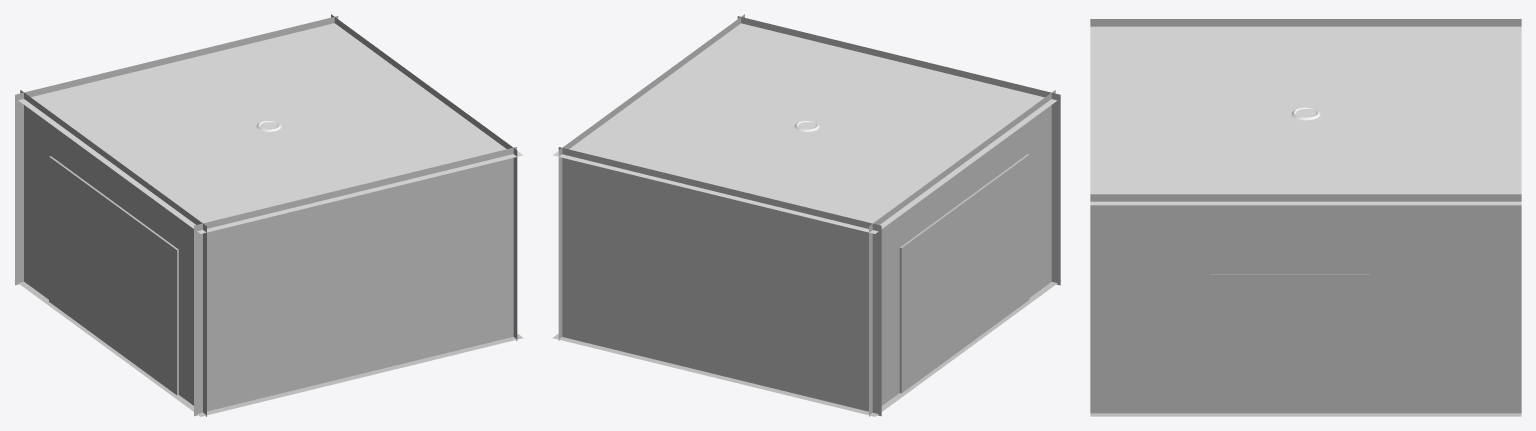
Rendered from menu.fbx.
The picture shows the model from 3 angles, left to right: view 1: azimuth 30°, elevation 25°; view 2: azimuth 150°, elevation 25°; view 3: azimuth 270°, elevation 25°; orthographic projection. The views are drawn at different scales.
Visible parts, largest first — view 1: Plane.002, Plane.005, Cube.001, Plane.004, Plane.003, Plane, Plane.001; view 2: Plane.003, Plane.005, Cube.001, Plane.004, Plane.002, Plane, Plane.001; view 3: Plane.001, Plane.005, Cube.002, Plane.004, Plane.
Part boxes in pixels (<box>): Plane.002: <box>194,147,516,416</box>; Plane.005: <box>18,23,522,233</box>; Cube.001: <box>49,156,178,395</box>; Plane.004: <box>20,90,206,416</box>; Plane.003: <box>15,16,338,285</box>; Plane: <box>14,280,523,416</box>; Plane.001: <box>331,14,517,340</box>; Plane.003: <box>558,147,881,416</box>; Plane.005: <box>553,23,1057,233</box>; Cube.001: <box>899,154,1029,393</box>; Plane.004: <box>869,90,1055,416</box>; Plane.002: <box>737,16,1060,285</box>; Plane: <box>552,280,1061,416</box>; Plane.001: <box>558,14,744,340</box>; Plane.001: <box>1090,194,1521,413</box>; Plane.005: <box>1090,26,1521,205</box>; Cube.002: <box>1210,274,1369,361</box>; Plane.004: <box>1090,19,1521,26</box>; Plane: <box>1090,413,1521,416</box>.
Size of the model in its own units: 1633 by 913 by 1619.
Materials: 5 (1 with a texture image).
